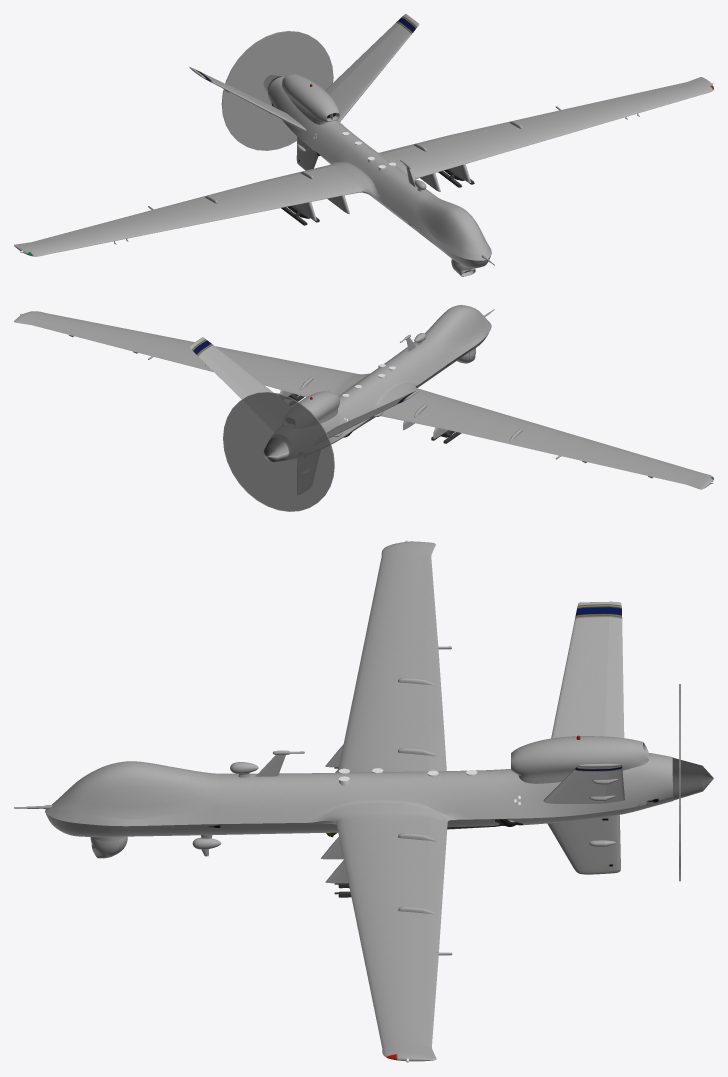
Rendered from MQ9-Reaper_V004.fbx.
The picture shows the model from 3 angles, top to bottom: view 1: azimuth 30°, elevation 25°; view 2: azimuth 150°, elevation 25°; view 3: azimuth 270°, elevation 25°; orthographic projection. The views are drawn at different scales.
Parts seen in each view (by area): view 1: Fuselage, Cylinder, HStabilizerL, Engine, HStabilizerR, ElevatorL, Antennas; view 2: Fuselage, Cylinder, HStabilizerL, Engine, FlapR2, AileronR, AileronL, FlapR1, ElevatorL, Propeller, FlapL1, FlapL2 (+2 smaller); view 3: Fuselage, HStabilizerR, Engine, VStabilizer, ElevatorR, HStabilizerL, Antennas, FlapL2, Propeller, FlapR2, AileronL, AileronR (+2 smaller).
Part boxes in pixels (bbox=[...]): Fuselage: bbox=[14, 76, 713, 268]; Cylinder: bbox=[221, 31, 333, 150]; HStabilizerL: bbox=[329, 16, 419, 121]; Engine: bbox=[282, 74, 339, 124]; HStabilizerR: bbox=[192, 68, 306, 131]; ElevatorL: bbox=[325, 14, 408, 94]; Antennas: bbox=[114, 113, 639, 265]; Fuselage: bbox=[14, 305, 713, 489]; Cylinder: bbox=[223, 392, 334, 511]; HStabilizerL: bbox=[193, 337, 273, 395]; Engine: bbox=[299, 391, 339, 423]; FlapR2: bbox=[450, 424, 563, 455]; AileronR: bbox=[555, 451, 689, 484]; AileronL: bbox=[31, 321, 157, 359]; FlapR1: bbox=[381, 408, 454, 430]; ElevatorL: bbox=[189, 344, 249, 399]; Propeller: bbox=[263, 437, 289, 462]; FlapL1: bbox=[261, 378, 320, 396]; FlapL2: bbox=[154, 352, 264, 382]; Fuselage: bbox=[45, 541, 673, 1061]; HStabilizerR: bbox=[551, 601, 609, 738]; Engine: bbox=[511, 736, 648, 783]; VStabilizer: bbox=[548, 818, 620, 874]; ElevatorR: bbox=[604, 601, 624, 738]; HStabilizerL: bbox=[543, 763, 610, 803]; Antennas: bbox=[14, 750, 477, 1005]; FlapL2: bbox=[424, 868, 444, 952]; Propeller: bbox=[672, 757, 713, 800]; FlapR2: bbox=[423, 646, 443, 729]; AileronL: bbox=[422, 951, 452, 1047]; AileronR: bbox=[421, 554, 451, 649].
Bounding box in the file's own units: 1425 × 245 × 810.
9 materials, 8 textured.
